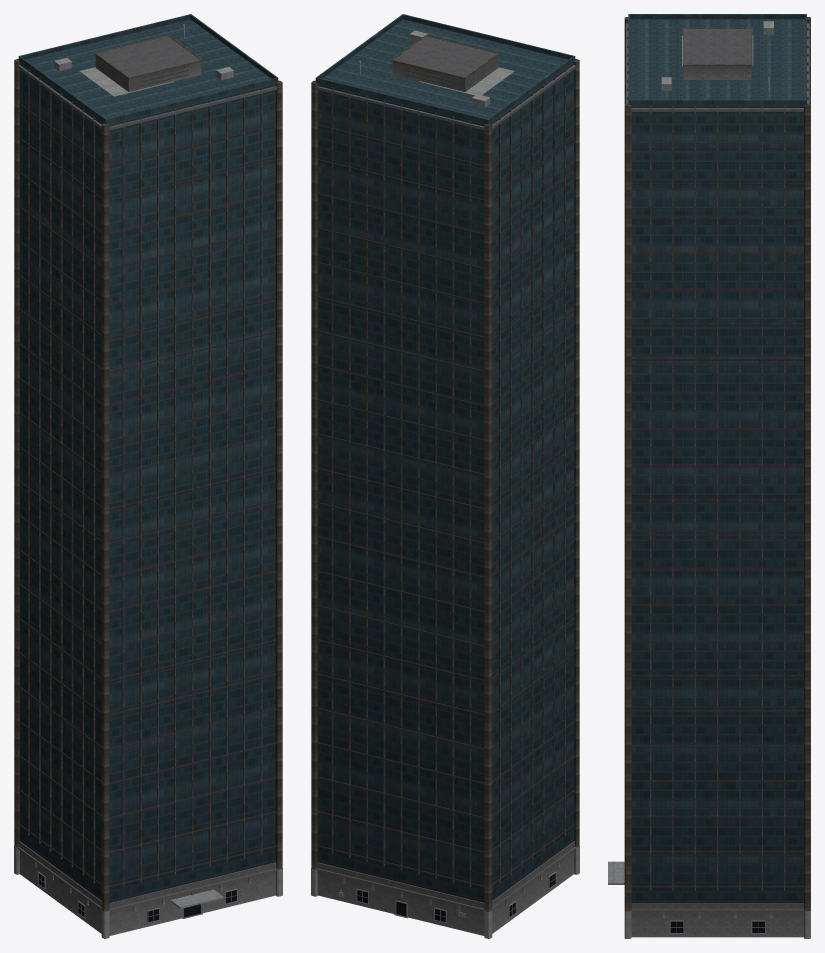
File: atwater-glass-tower_lod0.gltf
The picture shows the model from 3 angles, left to right: view 1: azimuth 30°, elevation 25°; view 2: azimuth 150°, elevation 25°; view 3: azimuth 270°, elevation 25°; orthographic projection. The views are drawn at different scales.
Parts seen in each view (by area): view 1: atwater-glass-tower_upper, atwater-glass-tower__v4_metal_detail, atwater-glass-tower__v4_stone_detail, atwater-glass-tower_base, atwater-glass-tower__cornice, atwater-glass-tower__parapet_front, atwater-glass-tower__parapet_back, atwater-glass-tower__helipad, atwater-glass-tower_fen_07-glass-curtain-blue_1_t; view 2: atwater-glass-tower_upper, atwater-glass-tower__v4_metal_detail, atwater-glass-tower__v4_stone_detail, atwater-glass-tower_base, atwater-glass-tower__cornice, atwater-glass-tower__parapet_back, atwater-glass-tower__parapet_front, atwater-glass-tower__helipad; view 3: atwater-glass-tower_upper, atwater-glass-tower__v4_metal_detail, atwater-glass-tower__v4_stone_detail, atwater-glass-tower_base, atwater-glass-tower__cornice, atwater-glass-tower__parapet_left, atwater-glass-tower__parapet_right.
Boxes of the visible parts, x1,y1,x2,y2 form: atwater-glass-tower_upper: (20,19,275,902); atwater-glass-tower__v4_metal_detail: (14,19,282,911); atwater-glass-tower__v4_stone_detail: (14,36,282,938); atwater-glass-tower_base: (20,851,275,935); atwater-glass-tower__cornice: (18,65,276,130); atwater-glass-tower__parapet_front: (105,77,278,124); atwater-glass-tower__parapet_back: (18,14,191,60); atwater-glass-tower__helipad: (79,67,173,96); atwater-glass-tower_fen_07-glass-curtain-blue_1_t: (38,873,236,922); atwater-glass-tower_upper: (318,19,573,902); atwater-glass-tower__v4_metal_detail: (311,19,579,911); atwater-glass-tower__v4_stone_detail: (311,36,579,938); atwater-glass-tower_base: (318,851,573,935); atwater-glass-tower__cornice: (317,65,575,130); atwater-glass-tower__parapet_back: (315,77,488,124); atwater-glass-tower__parapet_front: (402,14,575,60); atwater-glass-tower__helipad: (420,67,514,95); atwater-glass-tower_upper: (630,19,805,903); atwater-glass-tower__v4_metal_detail: (624,17,810,911); atwater-glass-tower__v4_stone_detail: (624,29,810,938); atwater-glass-tower_base: (631,912,803,937); atwater-glass-tower__cornice: (626,23,809,111); atwater-glass-tower__parapet_left: (630,14,805,19); atwater-glass-tower__parapet_right: (630,99,805,104).
Size of the model in its own units: 41.53 by 183 by 39.76.
